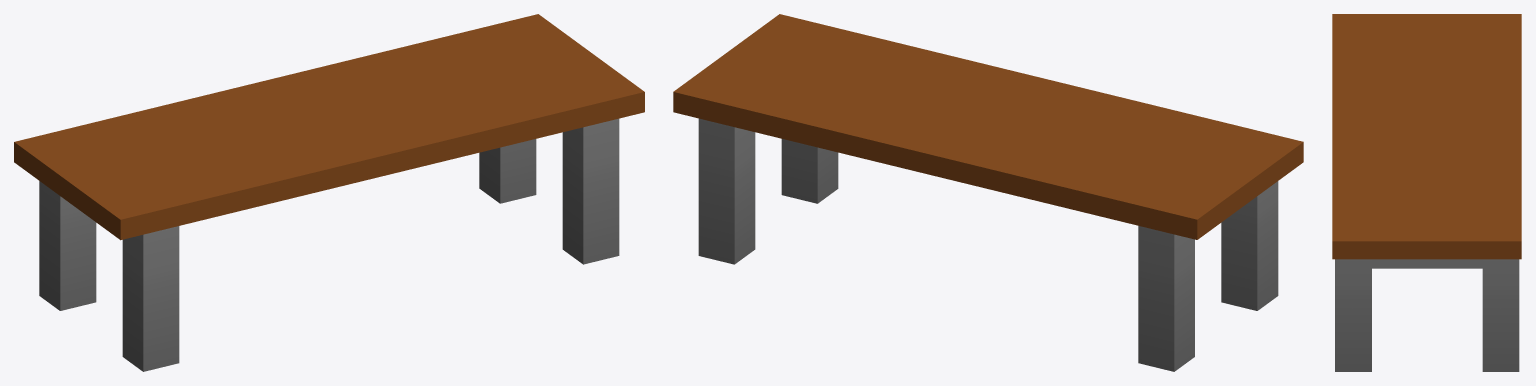
Rendered from Bench_1_A_8.fbx.
3 views of the same model, side by side, from view 1: azimuth 30°, elevation 25°; view 2: azimuth 150°, elevation 25°; view 3: azimuth 270°, elevation 25° (orthographic). The views are drawn at different scales.
Visible parts, largest first — view 1: Bench_1_A_8; view 2: Bench_1_A_8; view 3: Bench_1_A_8.
Part boxes in pixels (x1,y1,x2,y2): Bench_1_A_8: [14, 14, 644, 371]; Bench_1_A_8: [673, 14, 1303, 371]; Bench_1_A_8: [1332, 14, 1521, 371].
Bounding box in the file's own units: 116 × 33.54 × 40.68.
